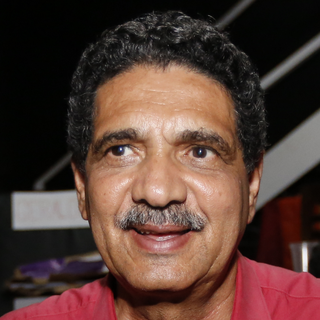eye: (181, 140, 226, 166), (101, 139, 142, 164)
